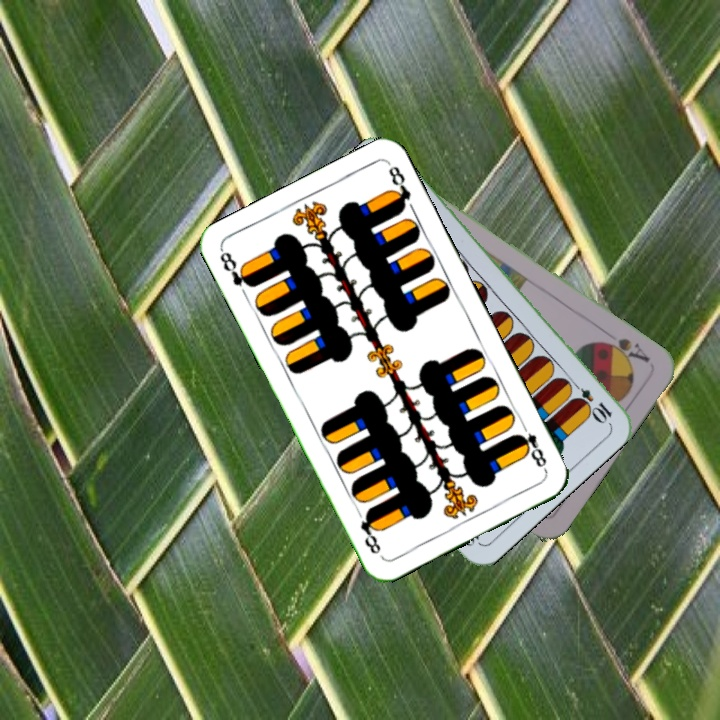E10: (566, 376, 615, 425)
E8: (512, 418, 550, 474), (216, 246, 257, 291)
SA: (596, 333, 653, 367)
